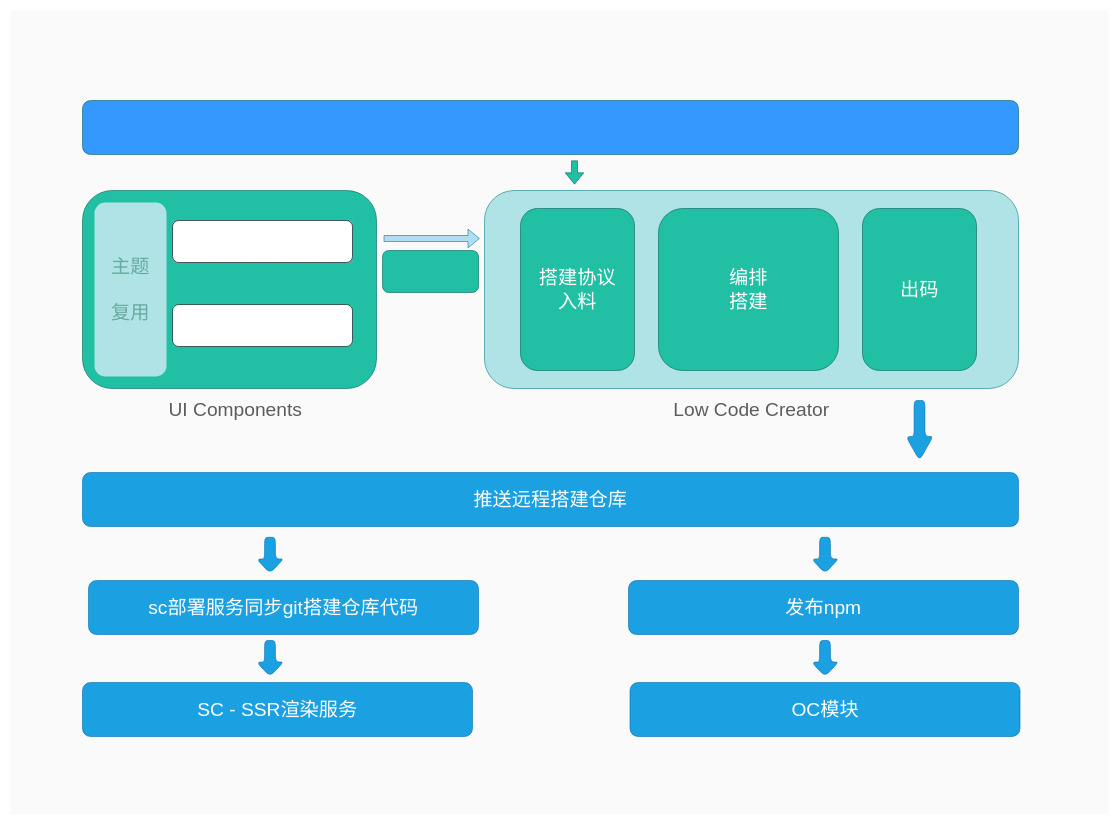
This 1118x824 diagram has some shape labels left out. Here are the shapes that lost their labels. From the top down, the centre of each, then its label:
point (550, 127): 搭建平台创建sc脚手架、创建单个路径模块
point (262, 241): 基于搭建协议的组件
point (430, 271): 物料
point (262, 325): 夸克统一规范的组件(目前)
